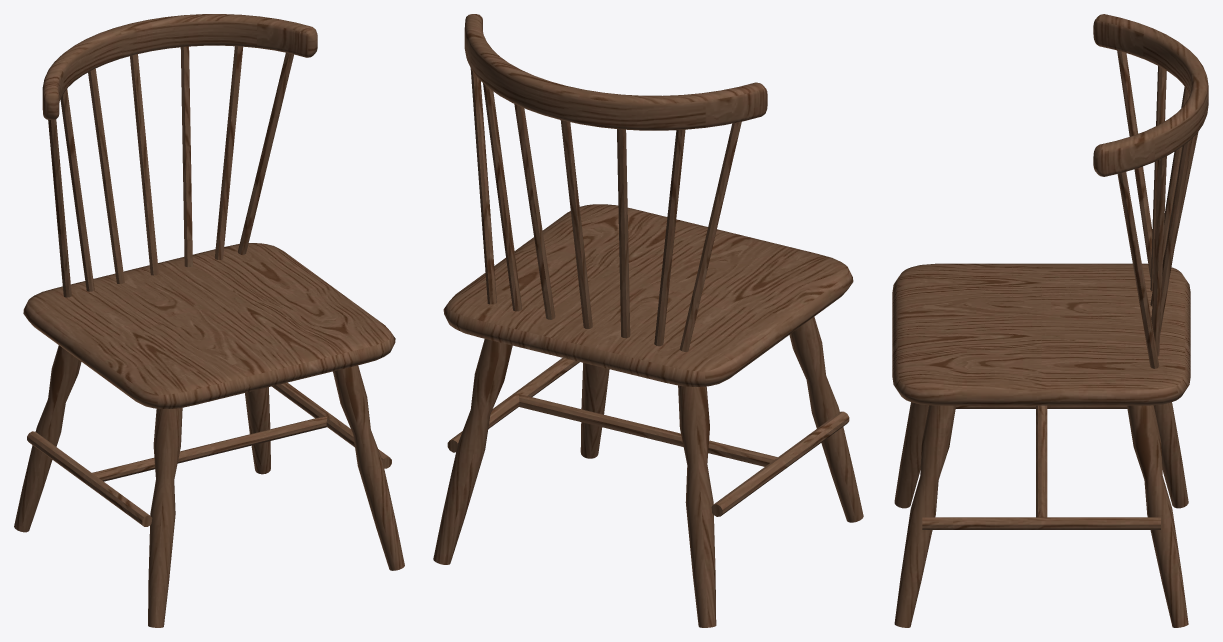
Rendered from silla_windsor_nogal.glb.
3 views of the same model, side by side, from view 1: azimuth 30°, elevation 25°; view 2: azimuth 150°, elevation 25°; view 3: azimuth 270°, elevation 25° (orthographic). The views are drawn at different scales.
Visible parts, largest first — view 1: silla_windsor_nogal; view 2: silla_windsor_nogal; view 3: silla_windsor_nogal.
Boxes of the visible parts, box(x1,y1,x2,y2) form: silla_windsor_nogal: box(14, 14, 404, 627); silla_windsor_nogal: box(433, 14, 863, 627); silla_windsor_nogal: box(892, 14, 1208, 627).
Bounding box in the file's own units: 0.5462 × 0.8982 × 0.53.
1 material, 1 textured.
